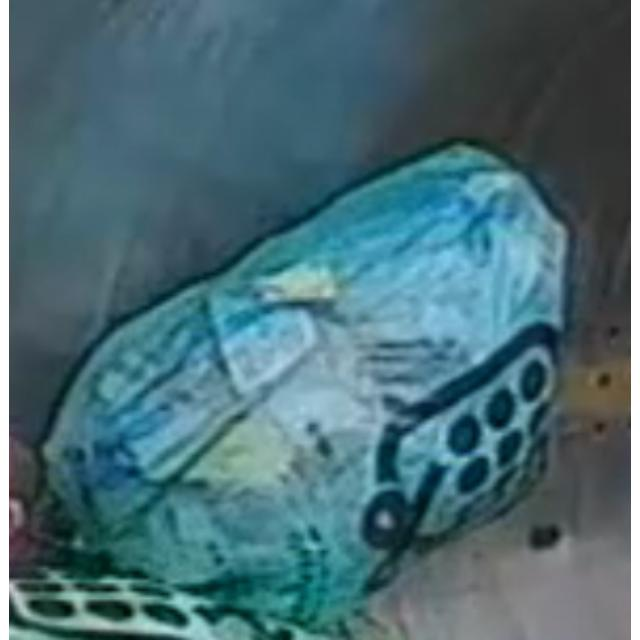general_trashbag: (44, 145, 566, 639)
